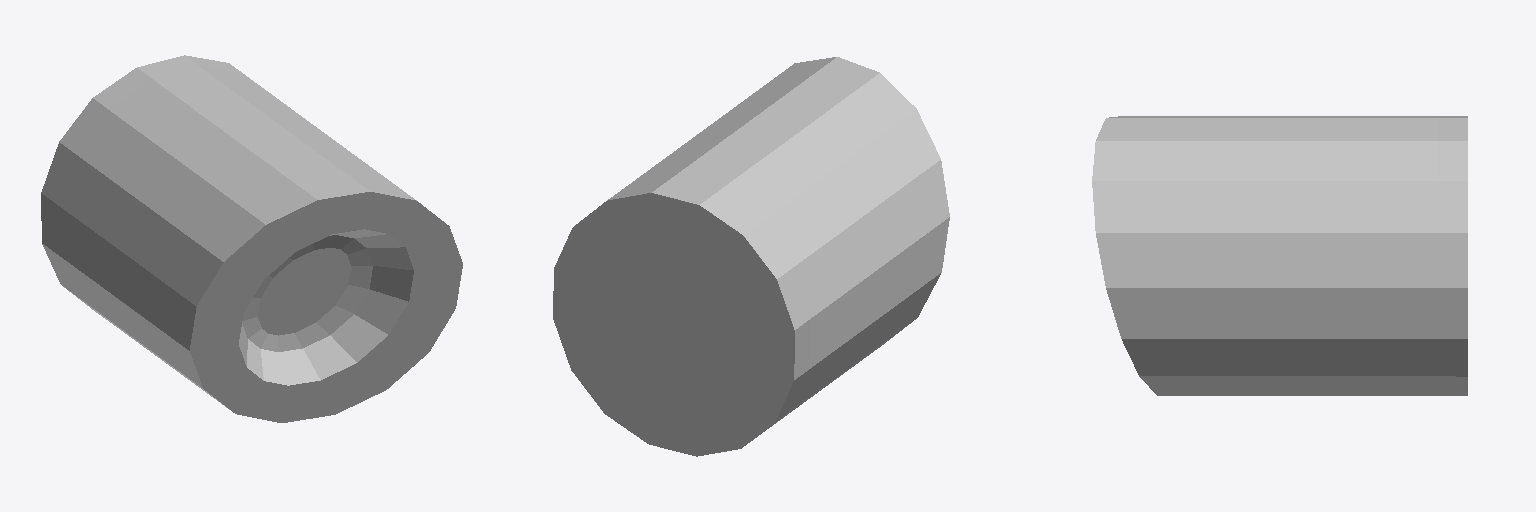
File: Candle2.obj
3 renders of one model, left to right at view 1: azimuth 30°, elevation 25°; view 2: azimuth 150°, elevation 25°; view 3: azimuth 270°, elevation 25°, orthographic.
Parts seen in each view (by area): view 1: Candle2_Cylinder.001; view 2: Candle2_Cylinder.001; view 3: Candle2_Cylinder.001.
Part boxes in pixels (left/top/right/bottom): Candle2_Cylinder.001: left=41, top=55, right=462, bottom=422; Candle2_Cylinder.001: left=553, top=57, right=949, bottom=456; Candle2_Cylinder.001: left=1092, top=116, right=1467, bottom=395.
Size of the model in its own units: 0.2809 by 0.2809 by 0.3784.